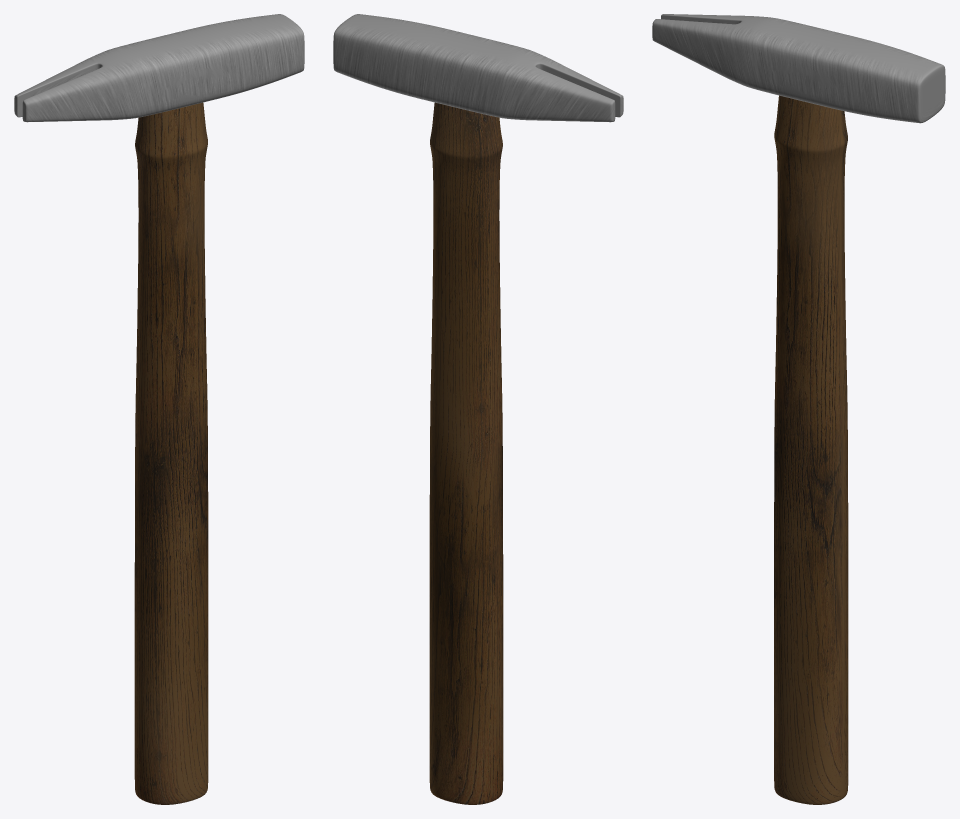
File: 13059_Tack_Hammer_v1_l3.obj
3 renders of one model, left to right at view 1: azimuth 30°, elevation 25°; view 2: azimuth 150°, elevation 25°; view 3: azimuth 330°, elevation 25°, orthographic.
Visible parts, largest first — view 1: tack_hammer_handle, tack_hammer_body; view 2: tack_hammer_handle, tack_hammer_body; view 3: tack_hammer_handle, tack_hammer_body.
Part boxes in pixels (x1,y1,x2,y2): tack_hammer_handle: (134, 102, 208, 804); tack_hammer_body: (14, 14, 304, 122); tack_hammer_handle: (429, 102, 503, 804); tack_hammer_body: (333, 14, 623, 122); tack_hammer_handle: (774, 95, 848, 804); tack_hammer_body: (652, 14, 945, 123).
Size of the model in its own units: 10.43 by 27.38 by 2.17.
2 materials, 2 textured.
